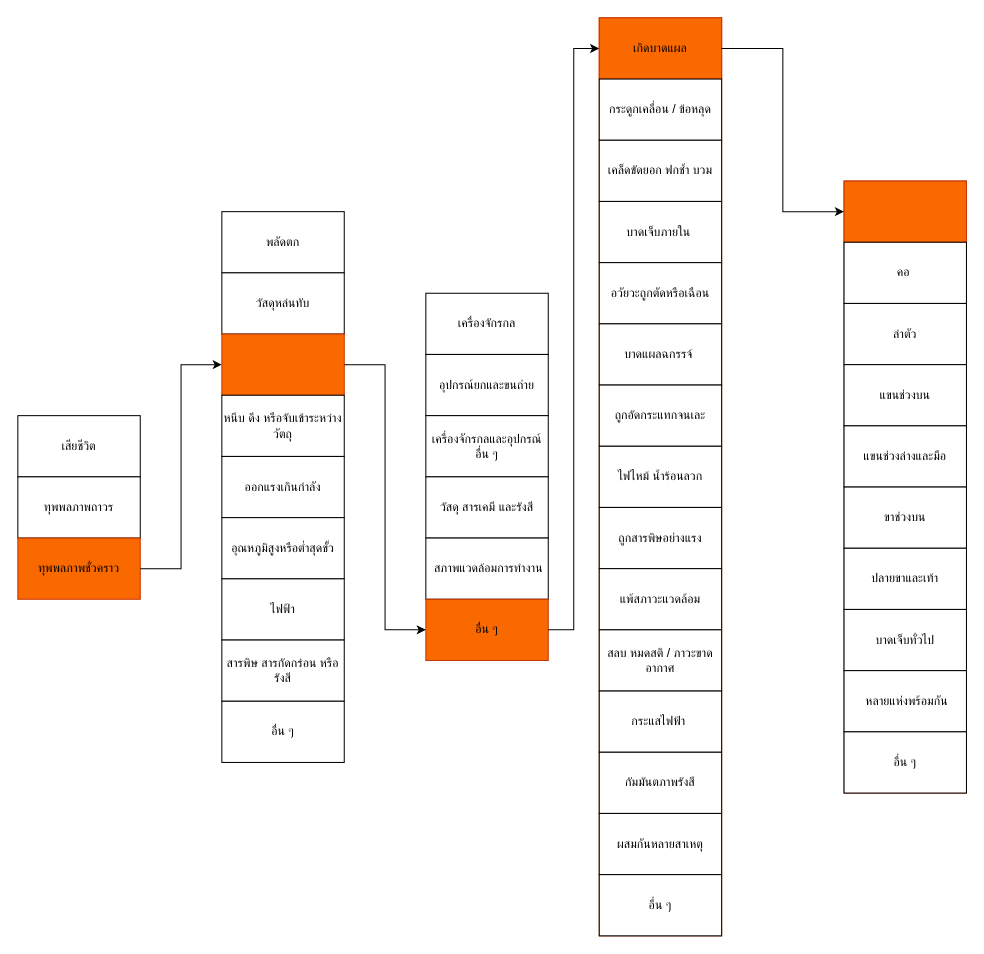
Some shapes in this 984 by 954 pixel diagram are drawn without their labels. Each missing label, with the box of its shape:
ชน เฉี่ยว กระแทก โดยวัสดุ: (221, 333, 344, 395)
ศีรษะ: (843, 180, 966, 242)
